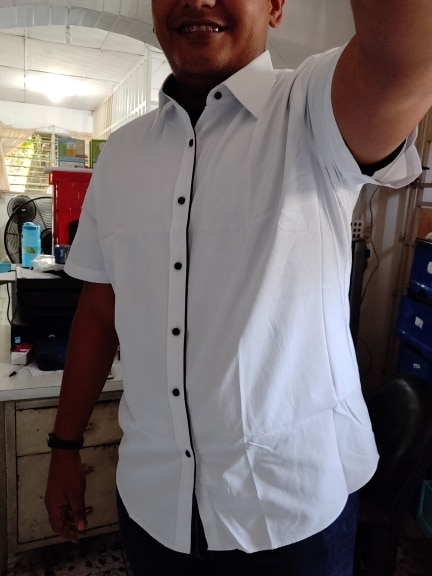shirts: (57, 41, 422, 552)
